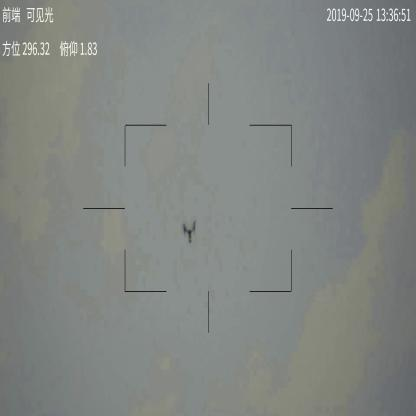uav: (179, 220, 198, 244)
